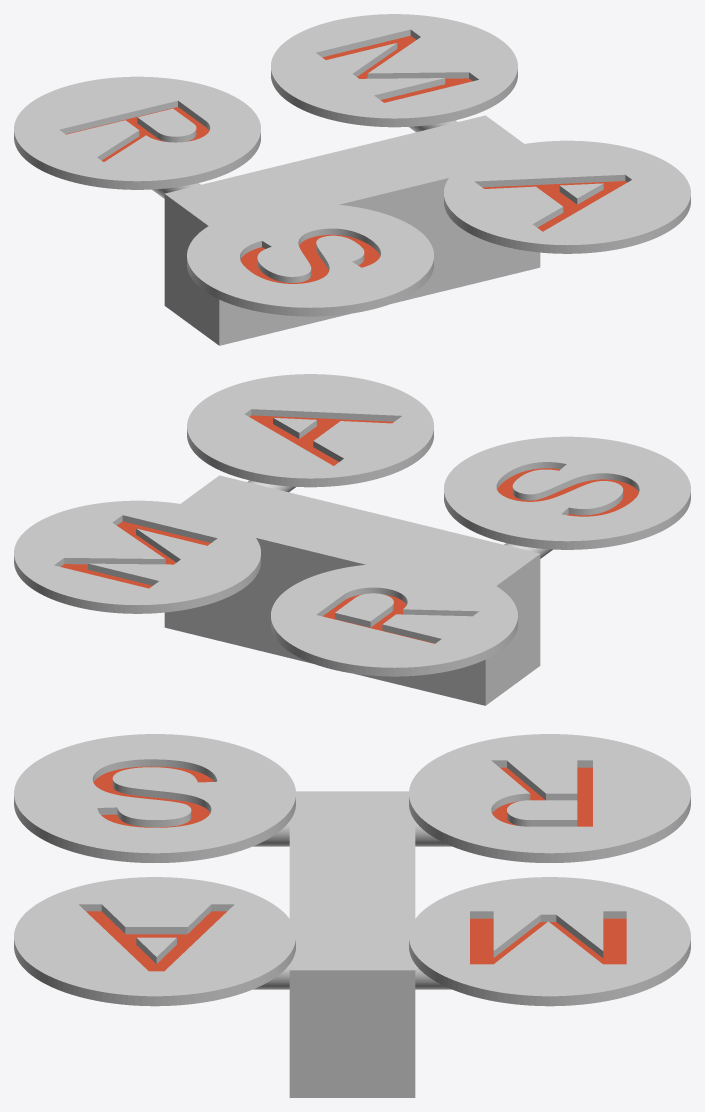
File: ddf250.dae
3 renders of one model, top to bottom at view 1: azimuth 30°, elevation 25°; view 2: azimuth 150°, elevation 25°; view 3: azimuth 270°, elevation 25°, orthographic. The views are drawn at different scales.
Visible parts, largest first — view 1: Hongyan_colored; view 2: Hongyan_colored; view 3: Hongyan_colored.
Part boxes in pixels (<box>): Hongyan_colored: <box>14,14,690,345</box>; Hongyan_colored: <box>14,374,690,705</box>; Hongyan_colored: <box>14,734,690,1097</box>.
Bounding box in the file's own units: 398 × 432 × 101.
